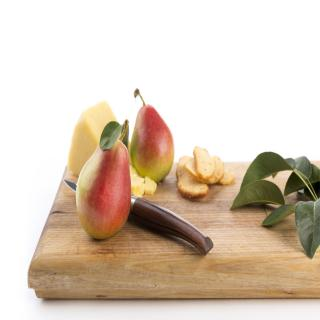Pear: (76, 119, 132, 241), (128, 88, 174, 182)
